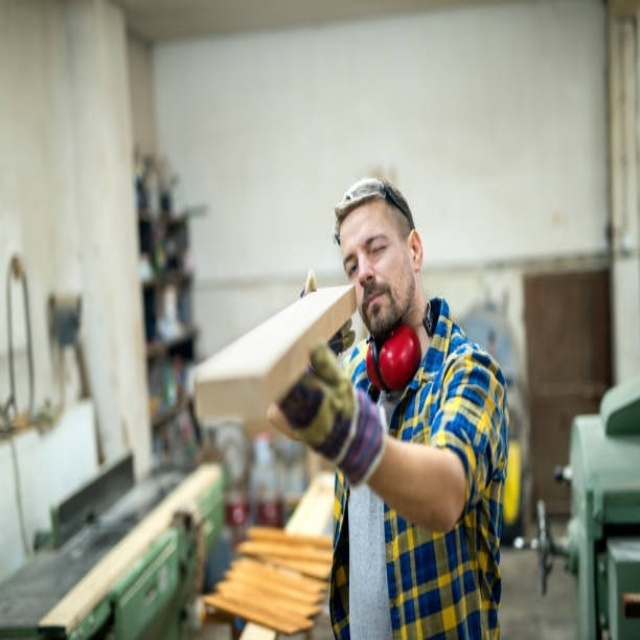Guantes: (265, 342, 388, 491)
Sin_gafas: (343, 224, 395, 278)
Sin_mascara: (358, 279, 395, 315)
